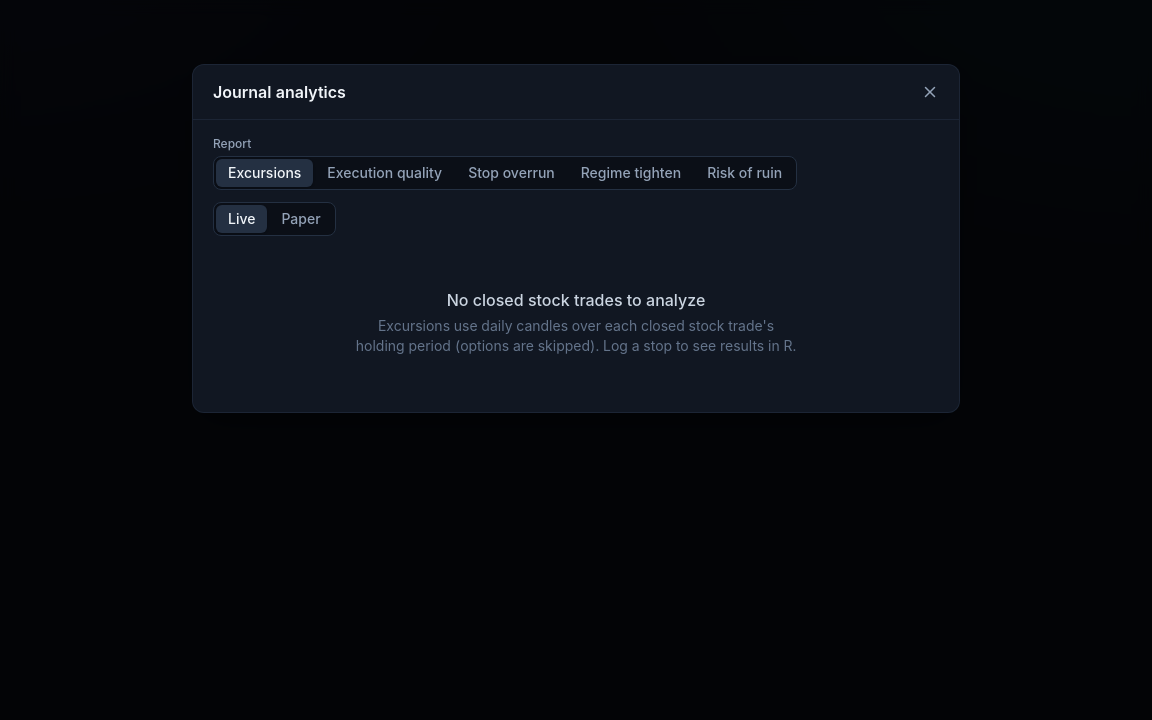
JournalAnalyticsModal — excursion distributions and the paper book › switches the same measurement to the paper book and says which book it is reading
Check: the text "No closed stock trades to analyze" is shown, box [447, 290, 705, 310]
Check: the text "unconstrained control arm" is not shown
Click the tab "Paper" at coordinates (301, 219), box [270, 205, 333, 233]
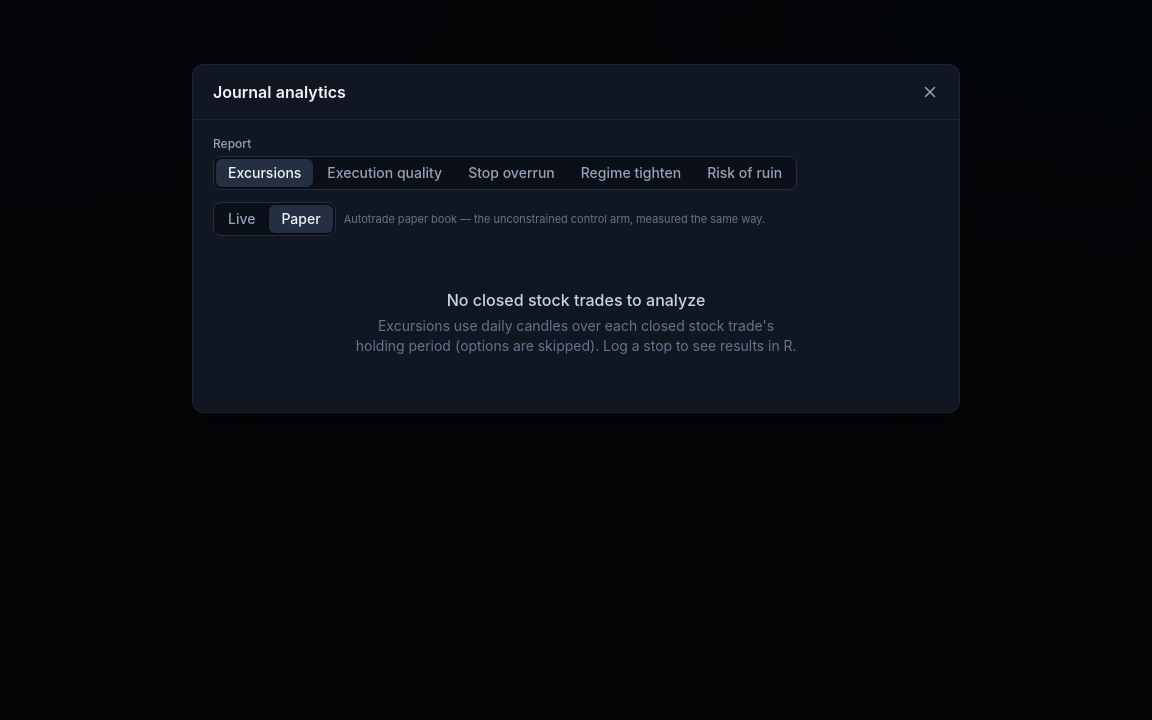
Check: the text "unconstrained control arm" is shown, box [344, 212, 765, 226]
